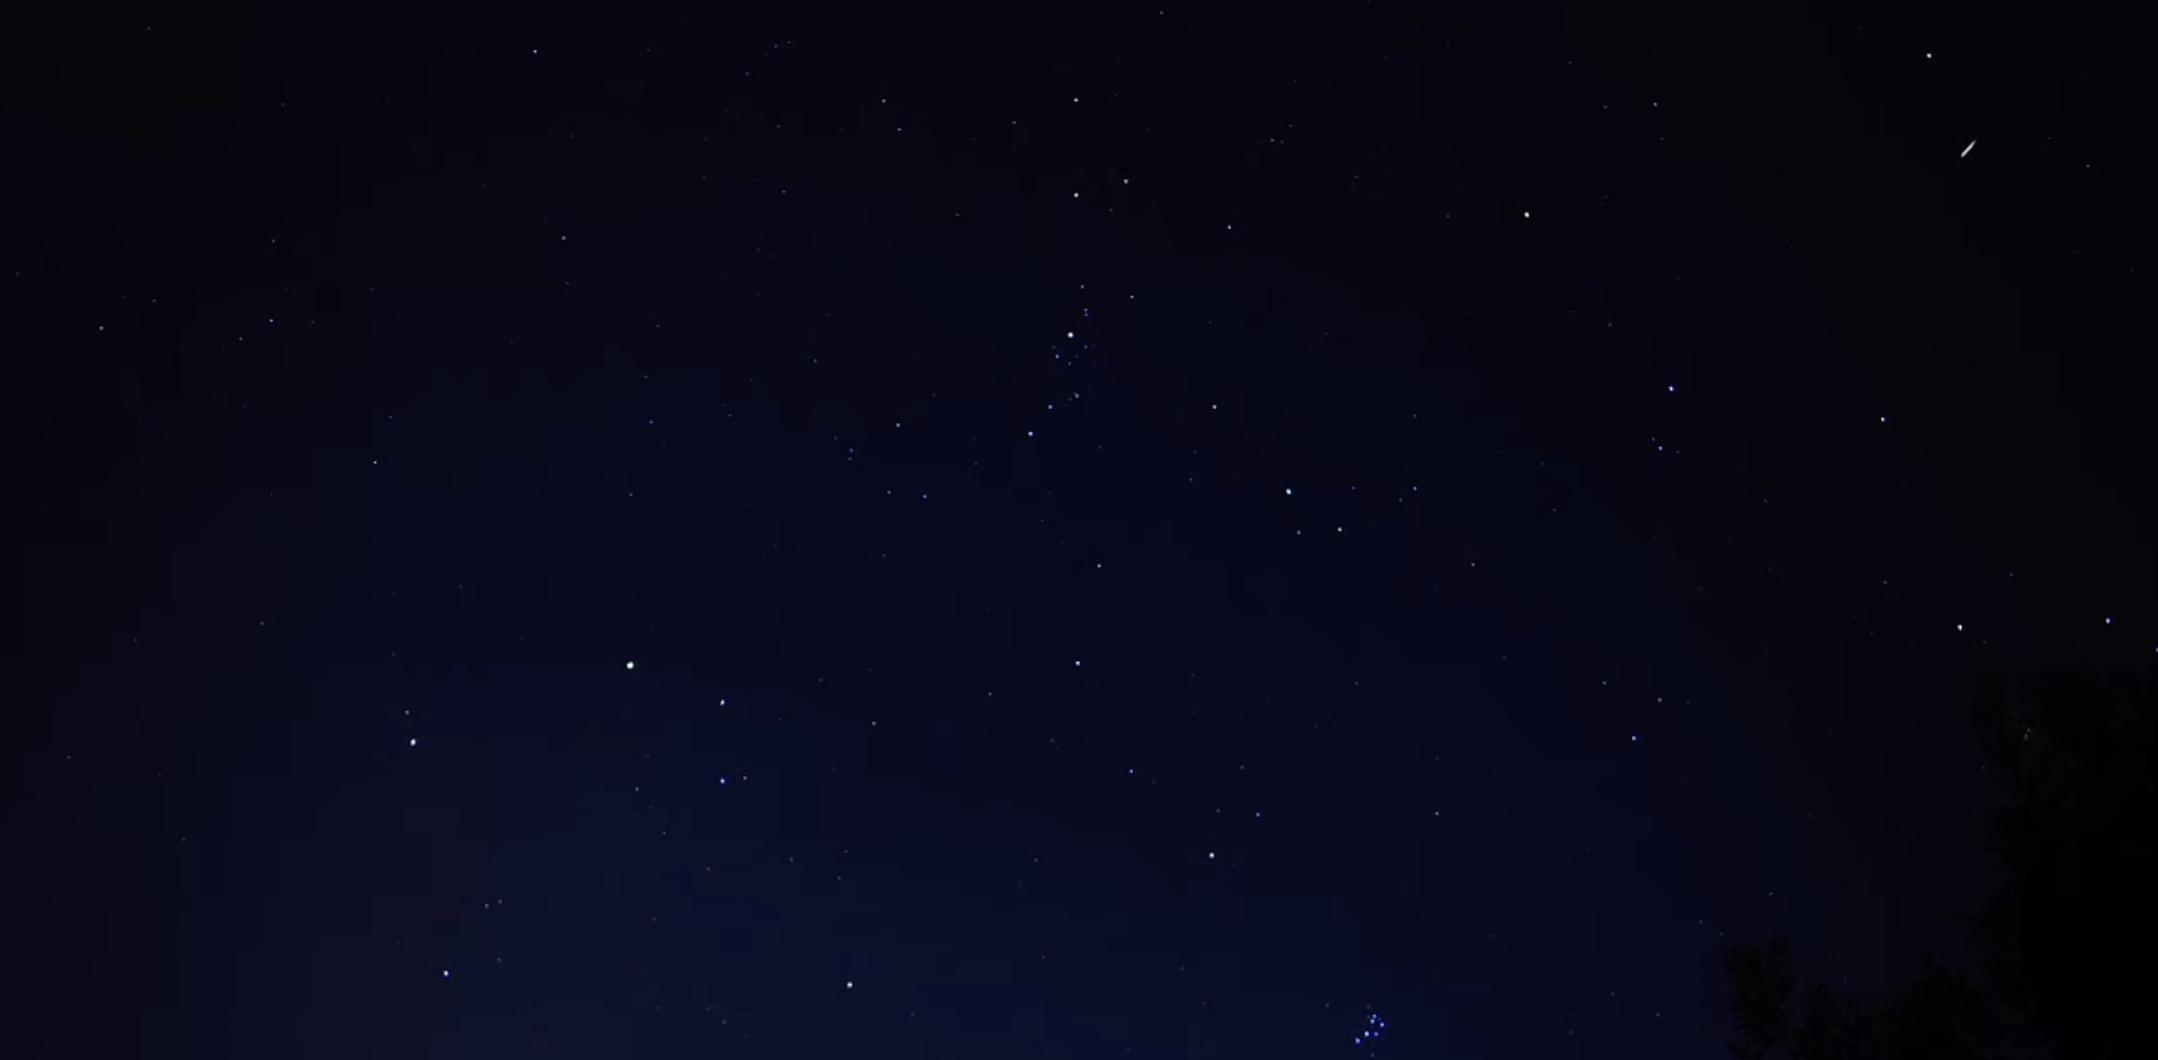meteorite: (1927, 127, 2012, 171)
